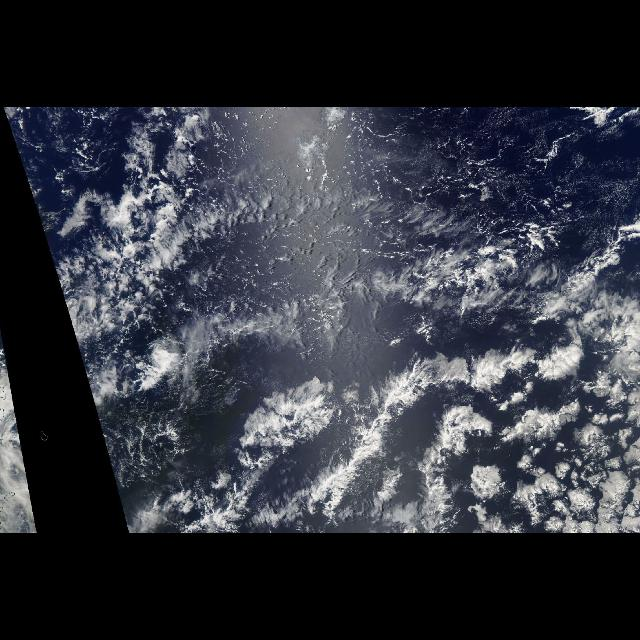Fish: (278, 336, 470, 532)
Flower: (416, 348, 640, 532)
Gravel: (199, 112, 545, 296)
Sugar: (548, 113, 640, 265)
